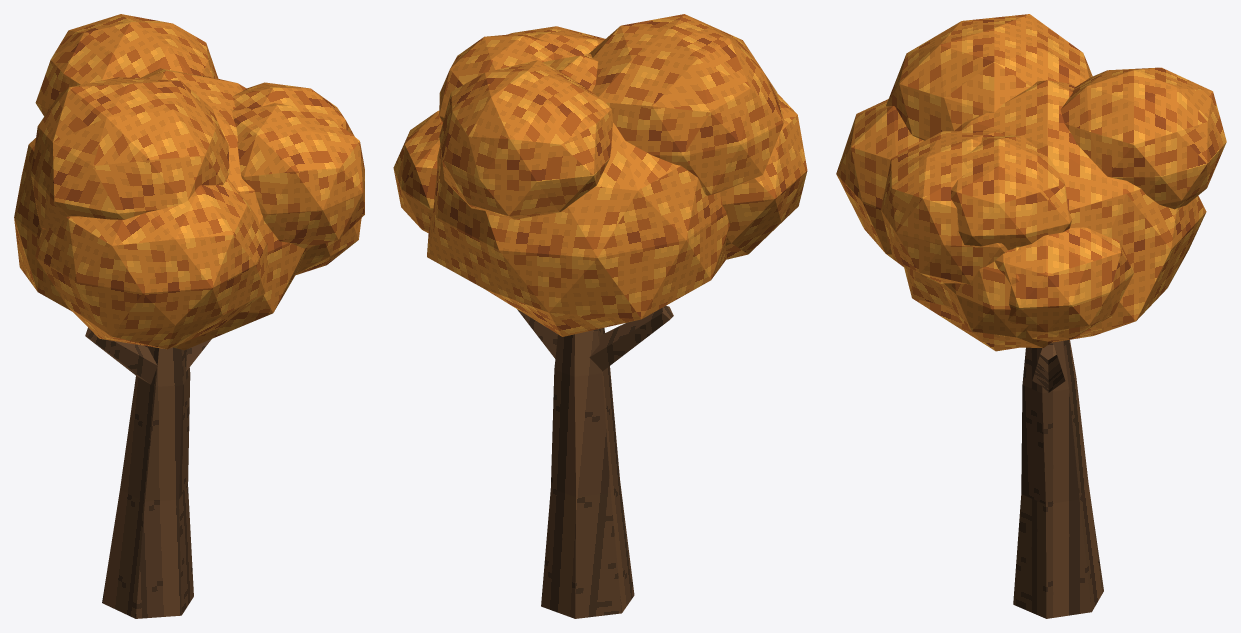
Rendered from autumn1.glb.
The picture shows the model from 3 angles, left to right: view 1: azimuth 30°, elevation 25°; view 2: azimuth 150°, elevation 25°; view 3: azimuth 270°, elevation 25°; orthographic projection. The views are drawn at different scales.
Visible parts, largest first — view 1: autumn1; view 2: autumn1; view 3: autumn1.
Part boxes in pixels (x1,y1,x2,y2): autumn1: [14, 14, 364, 618]; autumn1: [393, 14, 807, 618]; autumn1: [836, 14, 1226, 618].
Size of the model in its own units: 4.5 by 7.03 by 4.55.
2 materials, 2 textured.
